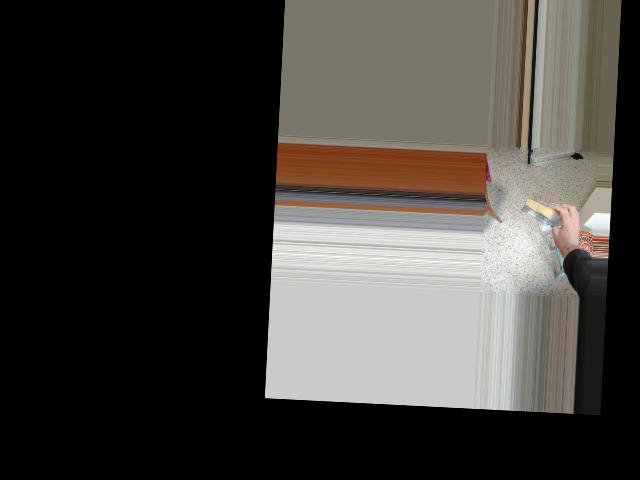cheese: (517, 194, 573, 232)
